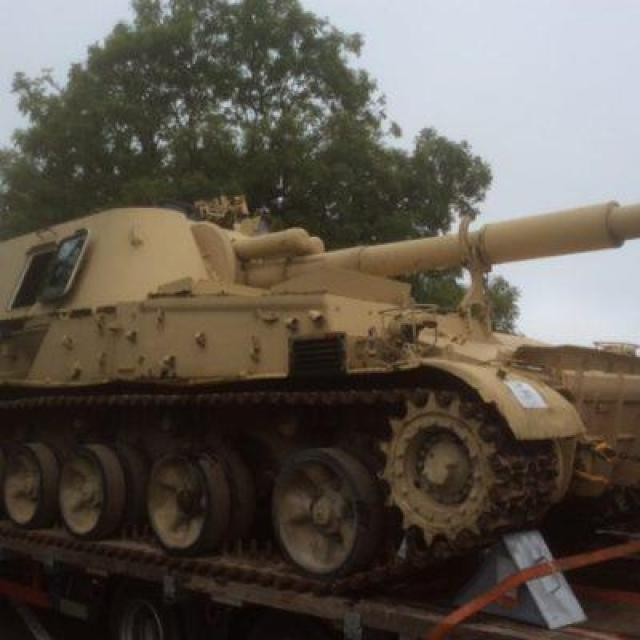Tanks: (9, 195, 604, 630)
